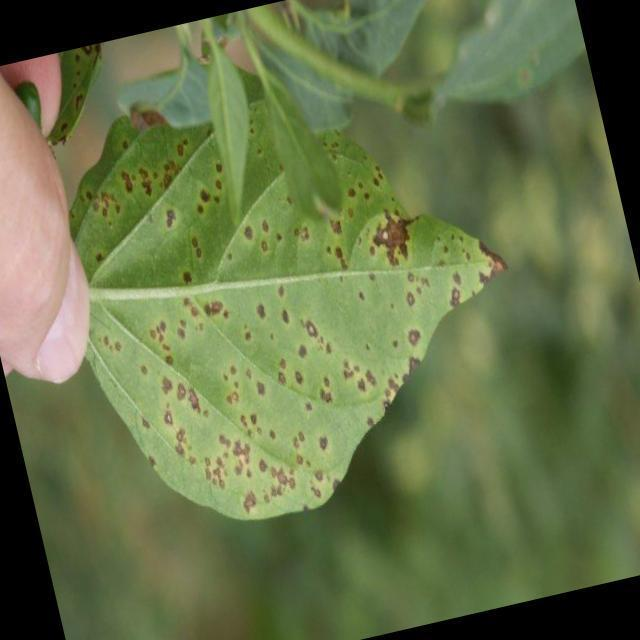Bacterial Spot: (67, 82, 524, 530)
